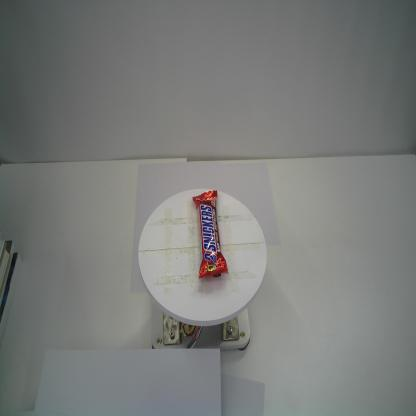Chocolate: (192, 189, 230, 281)
